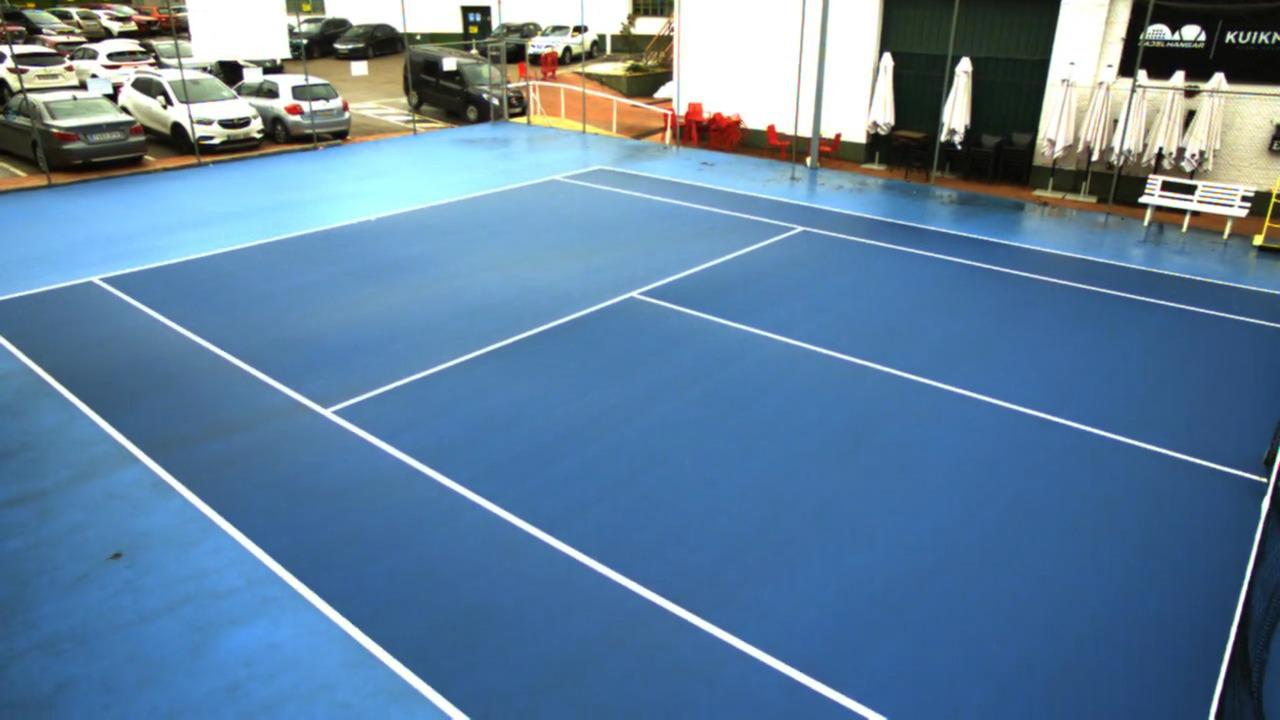cancha_tenis: (94, 177, 1280, 720)
point_f1: (84, 268, 110, 291)
point_f2: (546, 168, 572, 188)
point_fc1: (364, 208, 383, 226)
point_i1: (313, 398, 347, 425)
point_i2: (785, 217, 812, 239)
point_ic1: (623, 280, 652, 310)
